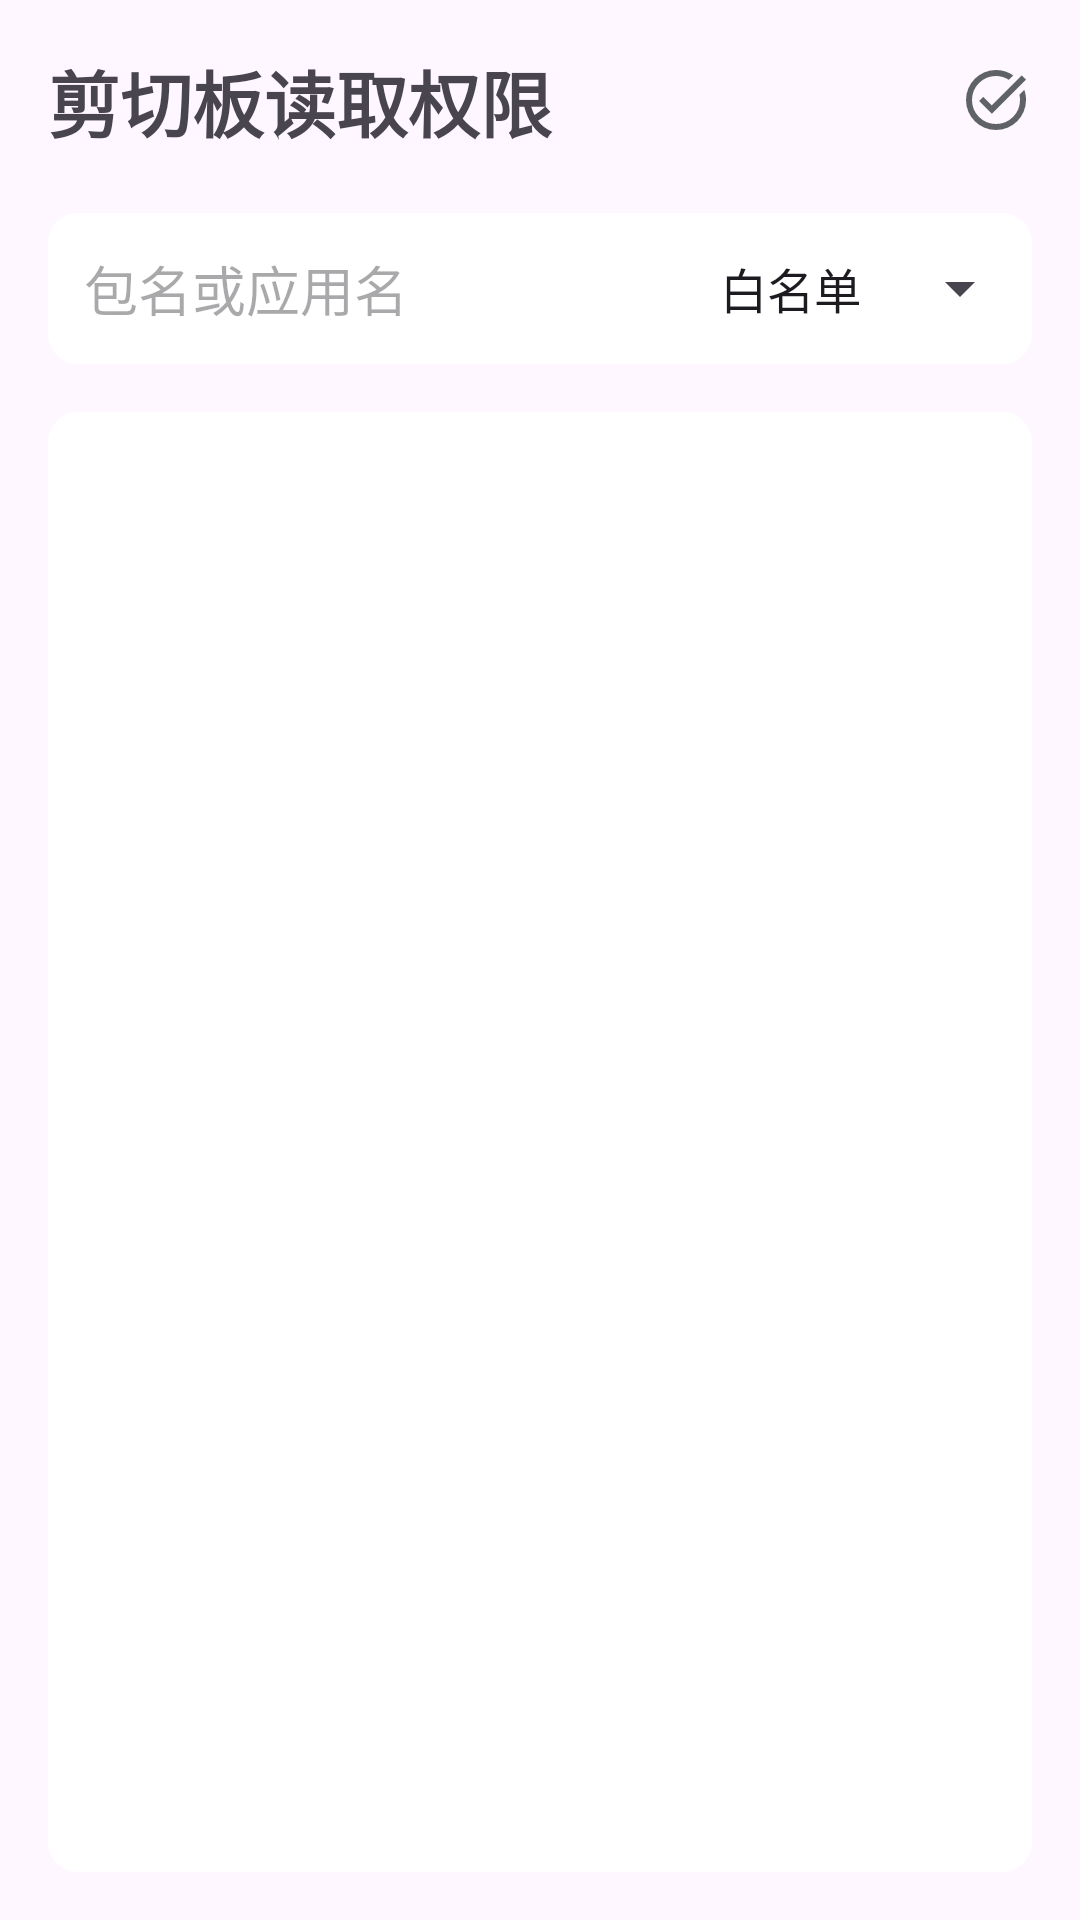

Where icons sit on this 1080×1920 app screen, as (x1, y1, x2, y2):
status: (966, 70, 1026, 130)
